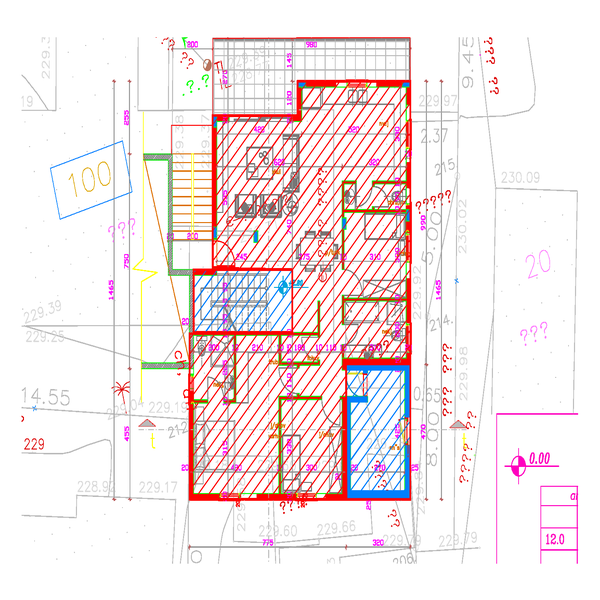room: (192, 331, 412, 504), (298, 80, 410, 216), (215, 118, 299, 273), (182, 265, 322, 343)
